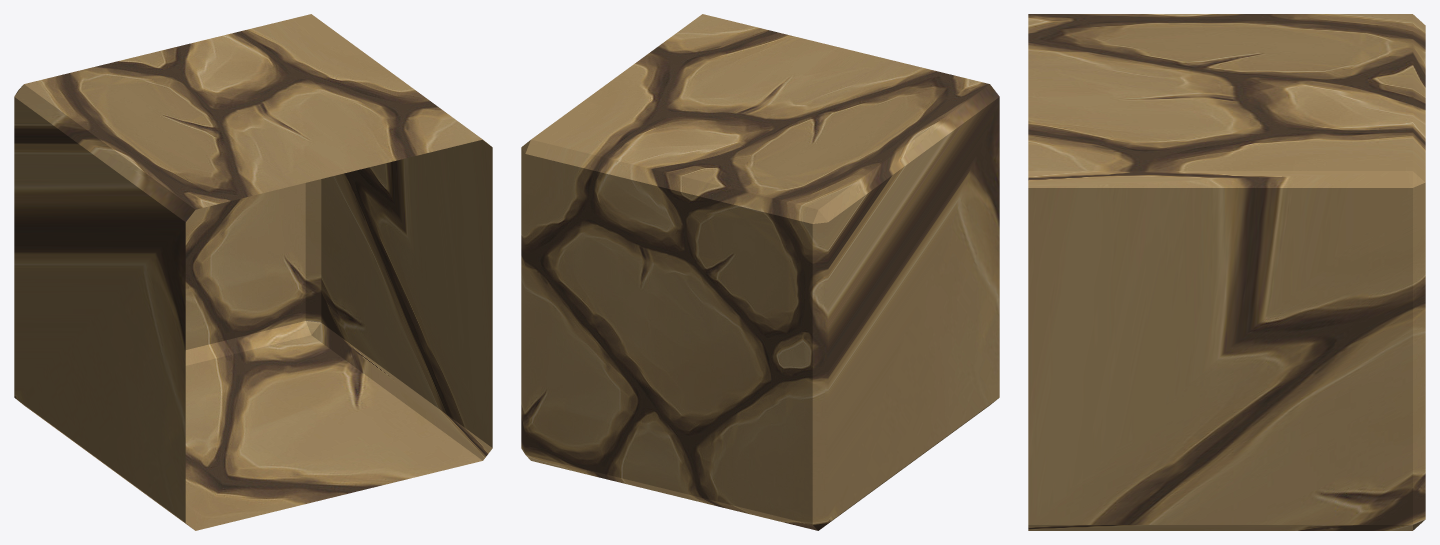
File: CrackedStone.fbx
3 views of the same model, side by side, from view 1: azimuth 30°, elevation 25°; view 2: azimuth 150°, elevation 25°; view 3: azimuth 270°, elevation 25° (orthographic). The views are drawn at different scales.
Visible parts, largest first — view 1: Grass 01; view 2: Grass 01; view 3: Grass 01.
Boxes of the visible parts, x1=… form: Grass 01: x1=14, y1=14, x2=492, y2=530; Grass 01: x1=521, y1=14, x2=999, y2=530; Grass 01: x1=1028, y1=14, x2=1425, y2=530.
Bounding box in the file's own units: 100 × 100 × 100.
